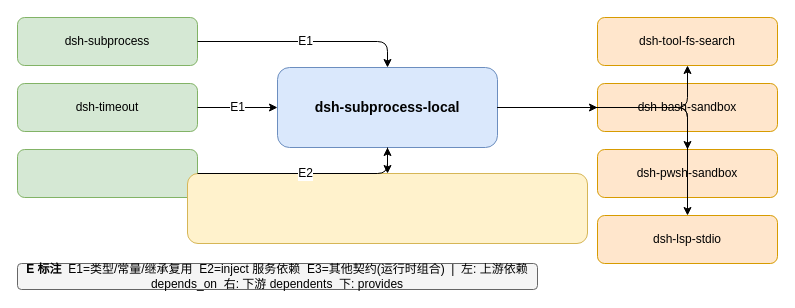
Image size: 795x308. Some labels were removed from this diagram. The shapes that lost their labels are listed below. From the top down, each one's centre as x and y in pixels, then its label:
At [107,173]: "dsh-invariants".
At [387,208]: "provides ctx.subprocess 服务 输出采集 (spill 文件) / 环境清洗 / 进程树终止".
